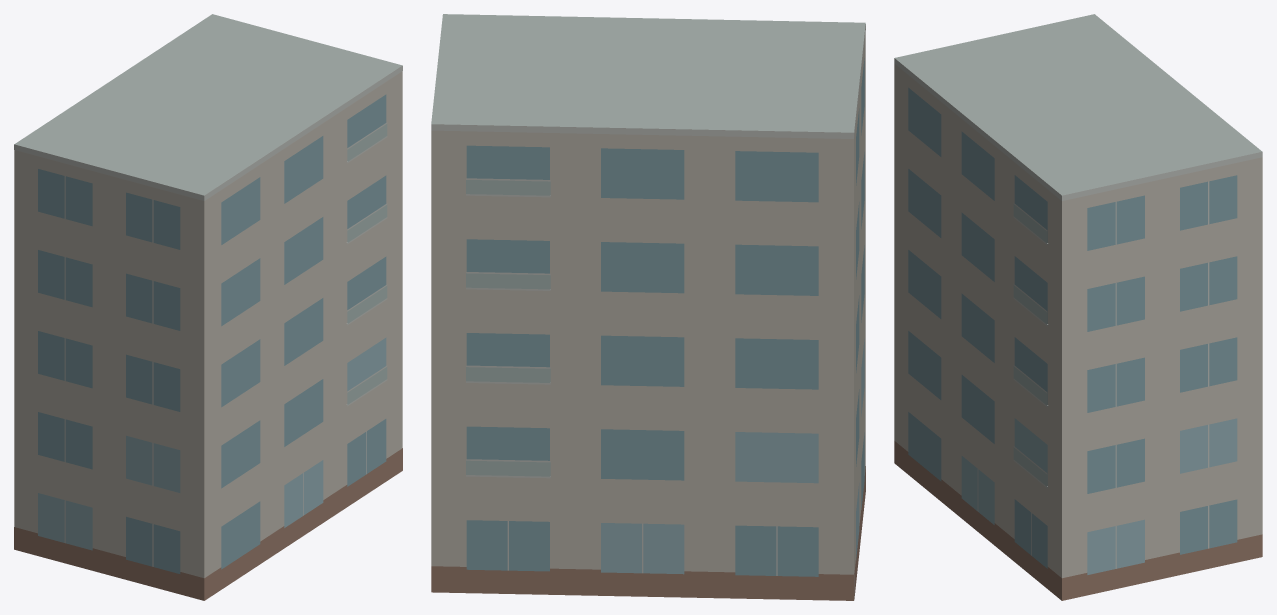
Rendered from survey-upis-32980640.glb.
3 views of the same model, side by side, from view 1: azimuth 30°, elevation 25°; view 2: azimuth 150°, elevation 25°; view 3: azimuth 270°, elevation 25° (orthographic). The views are drawn at different scales.
Parts seen in each view (by area): view 1: survey-upis-32980640.tmp; view 2: survey-upis-32980640.tmp; view 3: survey-upis-32980640.tmp.
Part boxes in pixels (bbox=[...]): survey-upis-32980640.tmp: bbox=[14, 14, 402, 600]; survey-upis-32980640.tmp: bbox=[431, 14, 865, 600]; survey-upis-32980640.tmp: bbox=[894, 14, 1262, 600].
Bounding box in the file's own units: 17.27 × 17.95 × 14.79.
